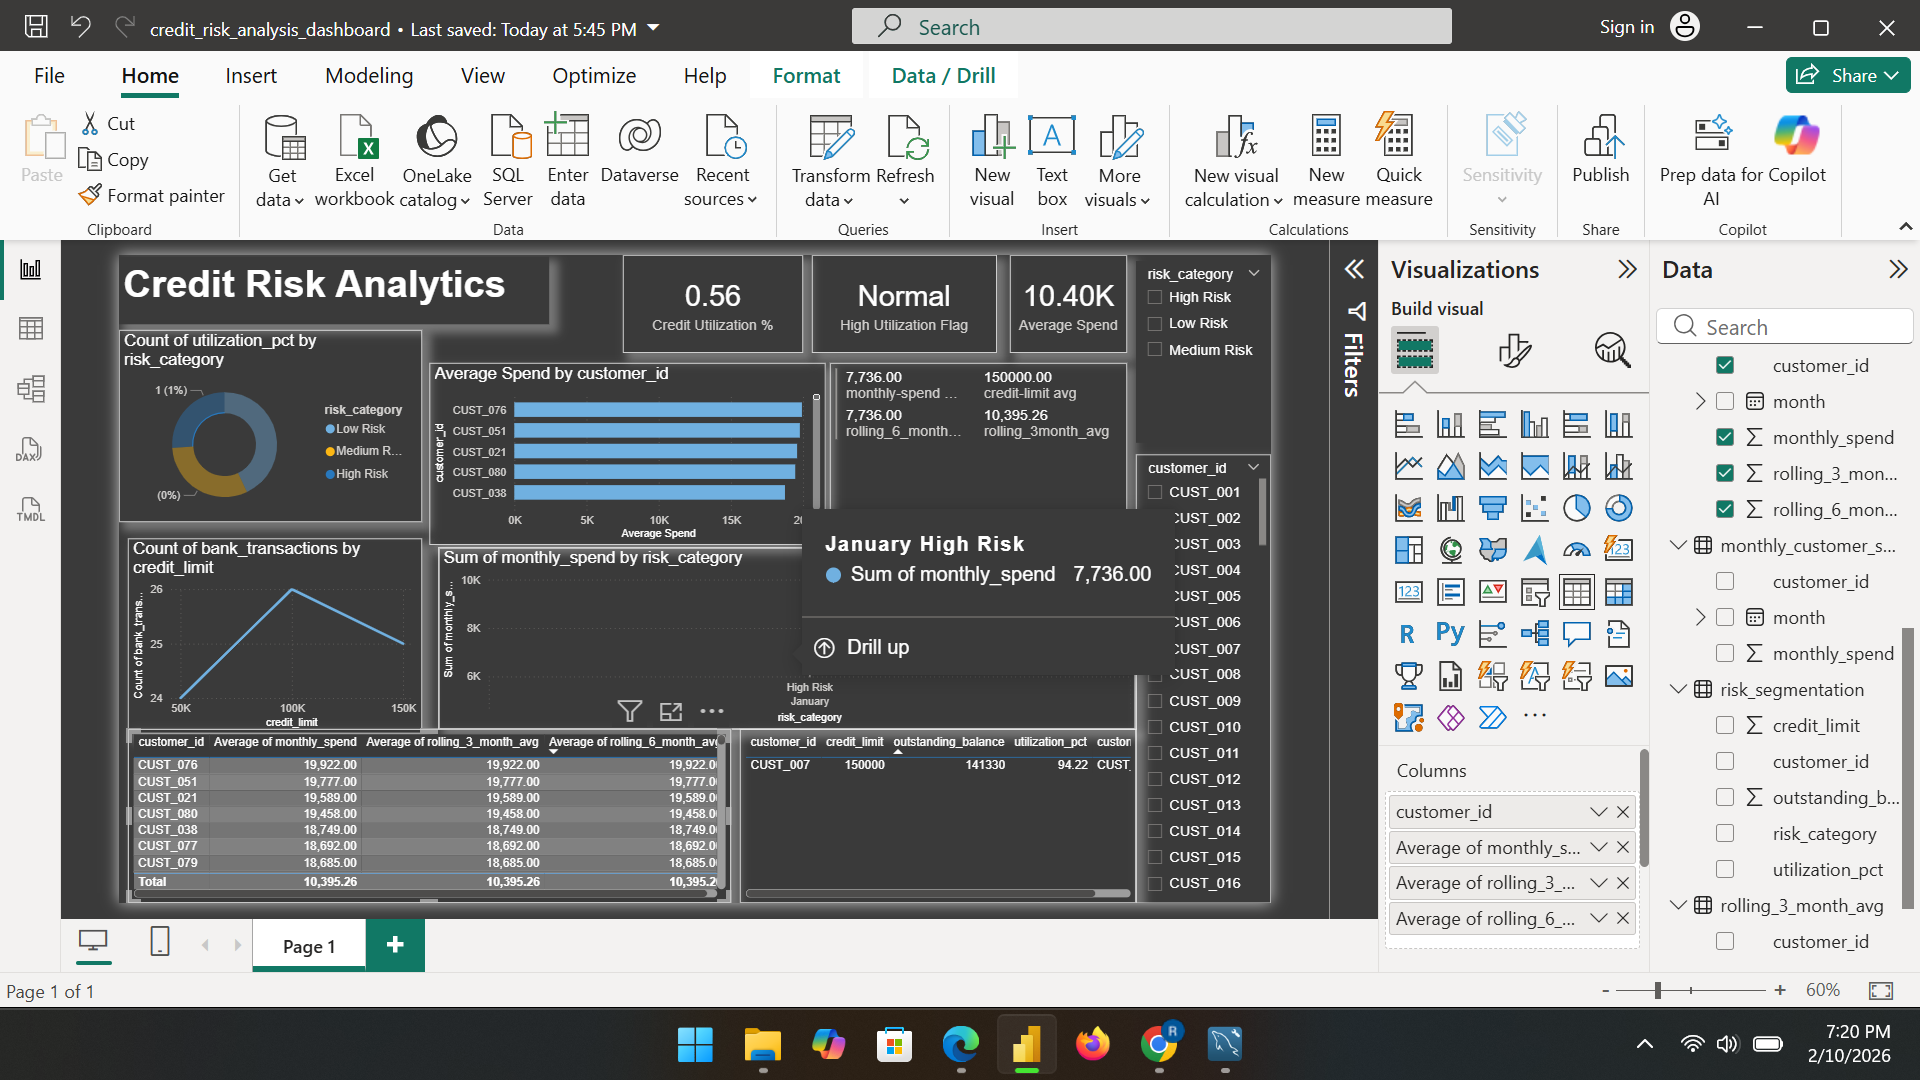

Layout of this report page (visuals, bound fields, positions):
{"tool":"powerbi","page":{"name":"Page 1","canvas":[1280,720],"ordinal":0},"visuals":[{"type":"card","fields":{"Values":["bank_transactions.Average Spend"]},"box":[990,0,130,108.3],"z":0},{"type":"card","fields":{"Values":["bank_transactions.Credit Utilization %"]},"box":[560,0,200,108.3],"z":1000},{"type":"card","fields":{"Values":["bank_transactions.High Utilization Flag"]},"box":[770,0,205,108.3],"z":2000},{"type":"FlowVisual_C29F1DCC_81F5_4973_94AD_0517D44CC06A","box":[478,378,163,289],"z":4000},{"type":"donutChart","fields":{"Category":["risk_segmentation.risk_category"],"Y":["CountNonNull(risk_segmentation.utilization_pct)"]},"box":[0,83.3,336.7,213.3],"z":5000},{"type":"tableEx","title":"Factors Affecting Customer Spending","fields":{"Values":["customer_spend_rolling_avg.customer_id","Avg(customer_spend_rolling_avg.monthly_spend)","Avg(customer_spend_rolling_avg.rolling_3_month_avg)","Avg(customer_spend_rolling_avg.rolling_6_month_avg)"]},"box":[10,526.7,670,193.3],"z":6000},{"type":"clusteredBarChart","fields":{"Category":["rolling_3_month_avg.customer_id"],"Y":["bank_transactions.Average Spend"]},"box":[345,120,440,201.7],"z":7000},{"type":"lineChart","fields":{"Category":["bank_transactions.credit_limit"],"Y":["Count(bank_transactions)"]},"box":[10,315,326.7,216.7],"z":8000},{"type":"tableEx","title":"High Risk Credit Utilization","fields":{"Values":["credit_utilization.customer_id","credit_utilization.credit_limit","credit_utilization.outstanding_balance","credit_utilization.utilization_pct","risk_segmentation.customer_id"]},"box":[690,526.7,440,193.3],"z":9000},{"type":"textbox","box":[0,1.9,478.1,75.6],"z":10000},{"type":"slicer","fields":{"Values":["credit_utilization.customer_id"]},"box":[1130,221.7,150,498.3],"z":11000},{"type":"multiRowCard","fields":{"Values":["Avg(customer_spend_rolling_avg.monthly_spend)","Avg(credit_utilization.credit_limit)","Avg(customer_spend_rolling_avg.rolling_6_month_avg)","Avg(rolling_3_month_avg.rolling_3m_avg_spend)"]},"box":[790,120,330,190],"z":12000},{"type":"lineChart","title":"Sum of monthly_spend by risk_category","fields":{"Y":["Sum(customer_spend_rolling_avg.monthly_spend)"],"Category":["customer_spend_rolling_avg.month.Variation.Date Hierarchy.Month","risk_segmentation.risk_category"]},"box":[355,325,775,201.7],"z":13000},{"type":"slicer","fields":{"Values":["risk_segmentation.risk_category"]},"box":[1130,6.7,150,201.7],"z":13001}]}

Visuals, with their boxes on the page's 1280x720 design canvas (x1, y1, x2, y2). These are canvas units, not pixel positions in the 1920x1080 screenshot, which may show the page scaled, cropped or inside an application window:
card - bank_transactions.Average Spend: box=[990, 0, 1120, 108]
card - bank_transactions.Credit Utilization %: box=[560, 0, 760, 108]
card - bank_transactions.High Utilization Flag: box=[770, 0, 975, 108]
FlowVisual_C29F1DCC_81F5_4973_94AD_0517D44CC06A: box=[478, 378, 641, 667]
donutChart - risk_segmentation.risk_category x CountNonNull(risk_segmentation.utilization_pct): box=[0, 83, 337, 297]
"Factors Affecting Customer Spending" tableEx: box=[10, 527, 680, 720]
clusteredBarChart - rolling_3_month_avg.customer_id x bank_transactions.Average Spend: box=[345, 120, 785, 322]
lineChart - bank_transactions.credit_limit x Count(bank_transactions): box=[10, 315, 337, 532]
"High Risk Credit Utilization" tableEx: box=[690, 527, 1130, 720]
textbox: box=[0, 2, 478, 78]
slicer - credit_utilization.customer_id: box=[1130, 222, 1280, 720]
multiRowCard - Avg(customer_spend_rolling_avg.monthly_spend) x Avg(credit_utilization.credit_limit): box=[790, 120, 1120, 310]
"Sum of monthly_spend by risk_category" lineChart: box=[355, 325, 1130, 527]
slicer - risk_segmentation.risk_category: box=[1130, 7, 1280, 208]
